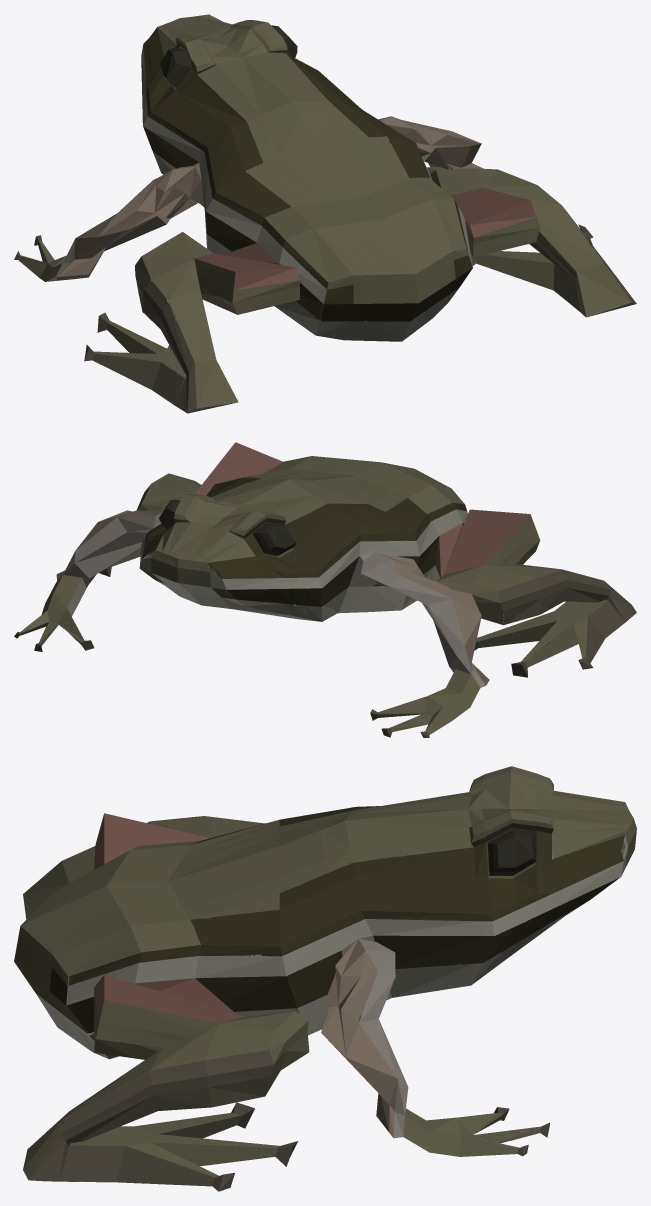
Rendered from FrogColor.fbx.
3 views of the same model, one above another, from view 1: azimuth 30°, elevation 25°; view 2: azimuth 150°, elevation 25°; view 3: azimuth 270°, elevation 25° (orthographic). The views are drawn at different scales.
Parts seen in each view (by area): view 1: pPlane6; view 2: pPlane6; view 3: pPlane6.
Part boxes in pixels (x1,y1,x2,y2): pPlane6: [14, 14, 636, 413]; pPlane6: [14, 442, 636, 737]; pPlane6: [14, 766, 636, 1191].
Bounding box in the file's own units: 16.9 × 6.12 × 13.8.
Materials: 1 (1 with a texture image).
